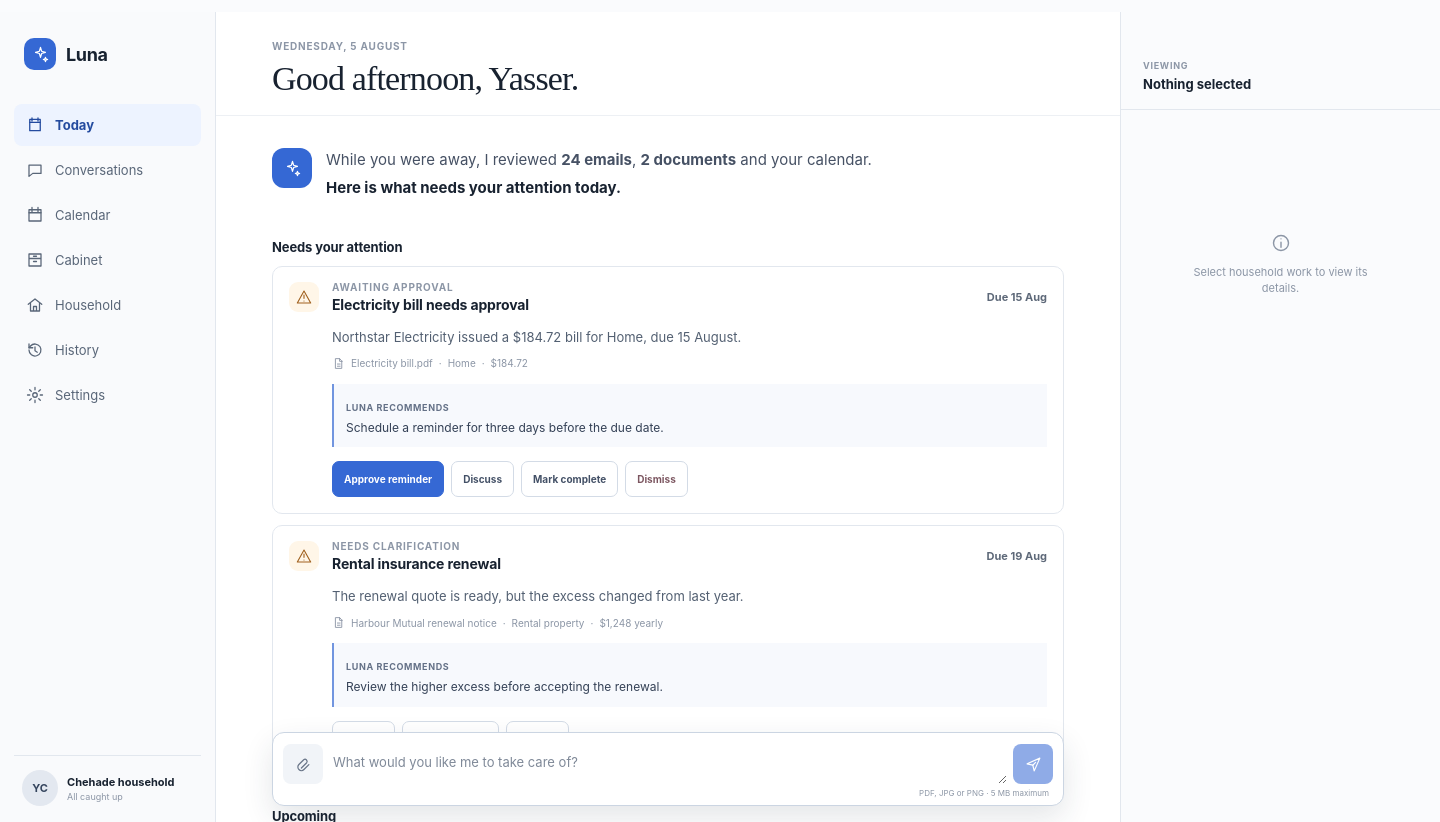
Scenario: production Today route › corrects one visible fact while preserving the rest
The width and height of the screenshot is (1440, 822).
Click the button with aria-label "Open Rental insurance renewal". click: coordinates (396, 546)
box: [273,526,1063,586]
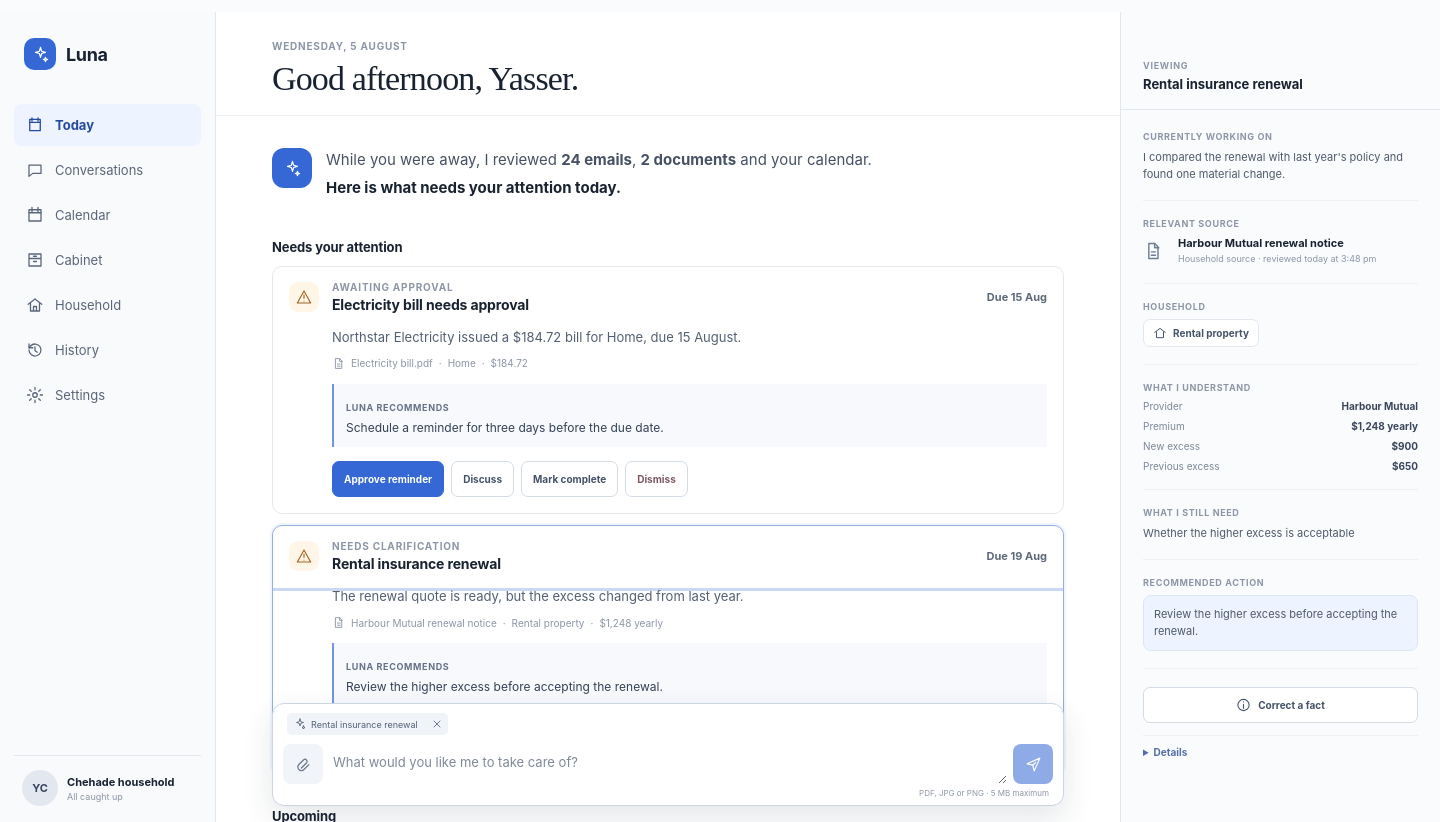
Click the button "Correct a fact". click: coordinates (1280, 705)
box: [1143,687,1418,723]
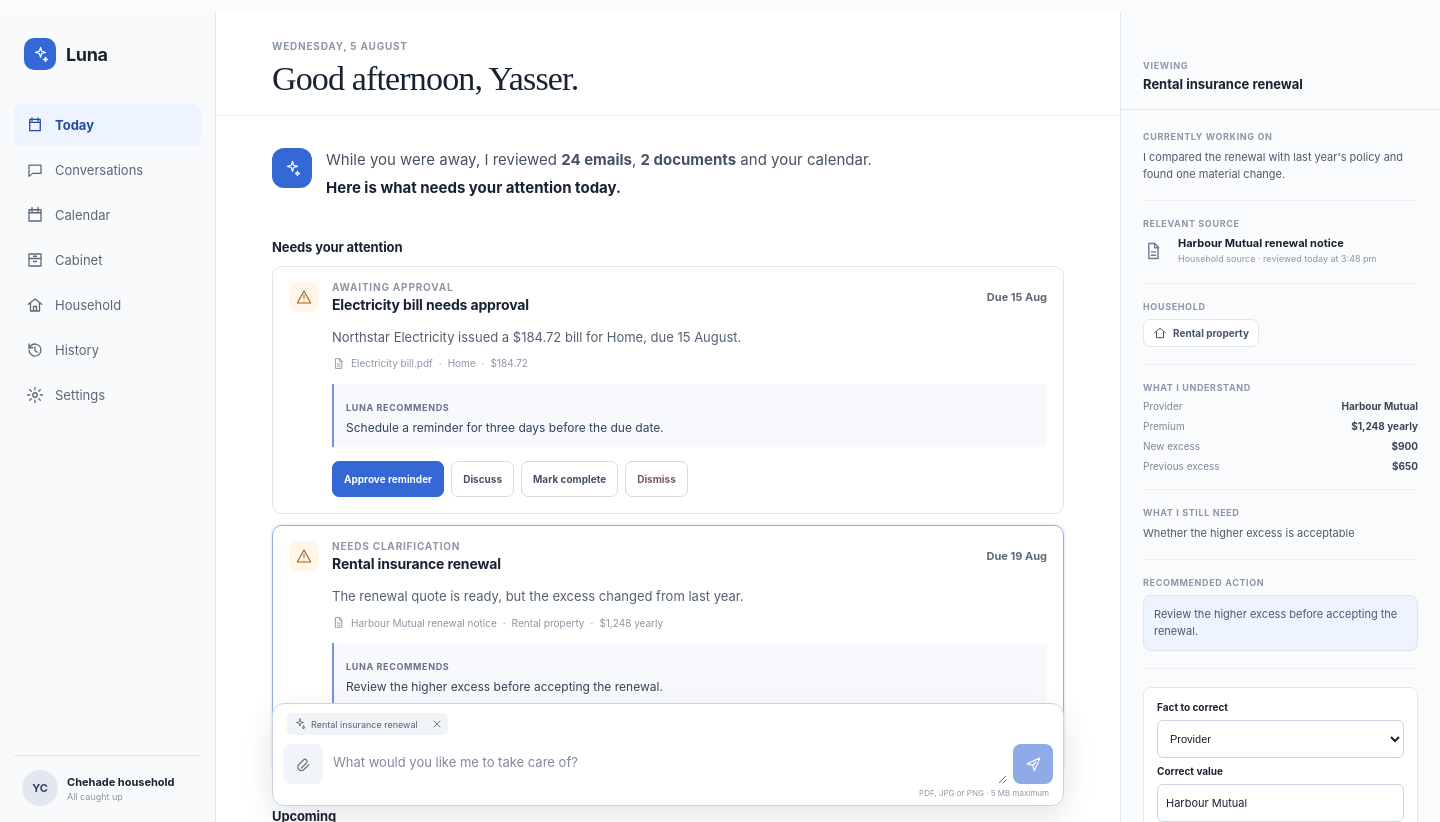
Select "New excess" in the dropdown labelled "Fact to correct". click: coordinates (1280, 739)
box: [1157,720,1404,758]
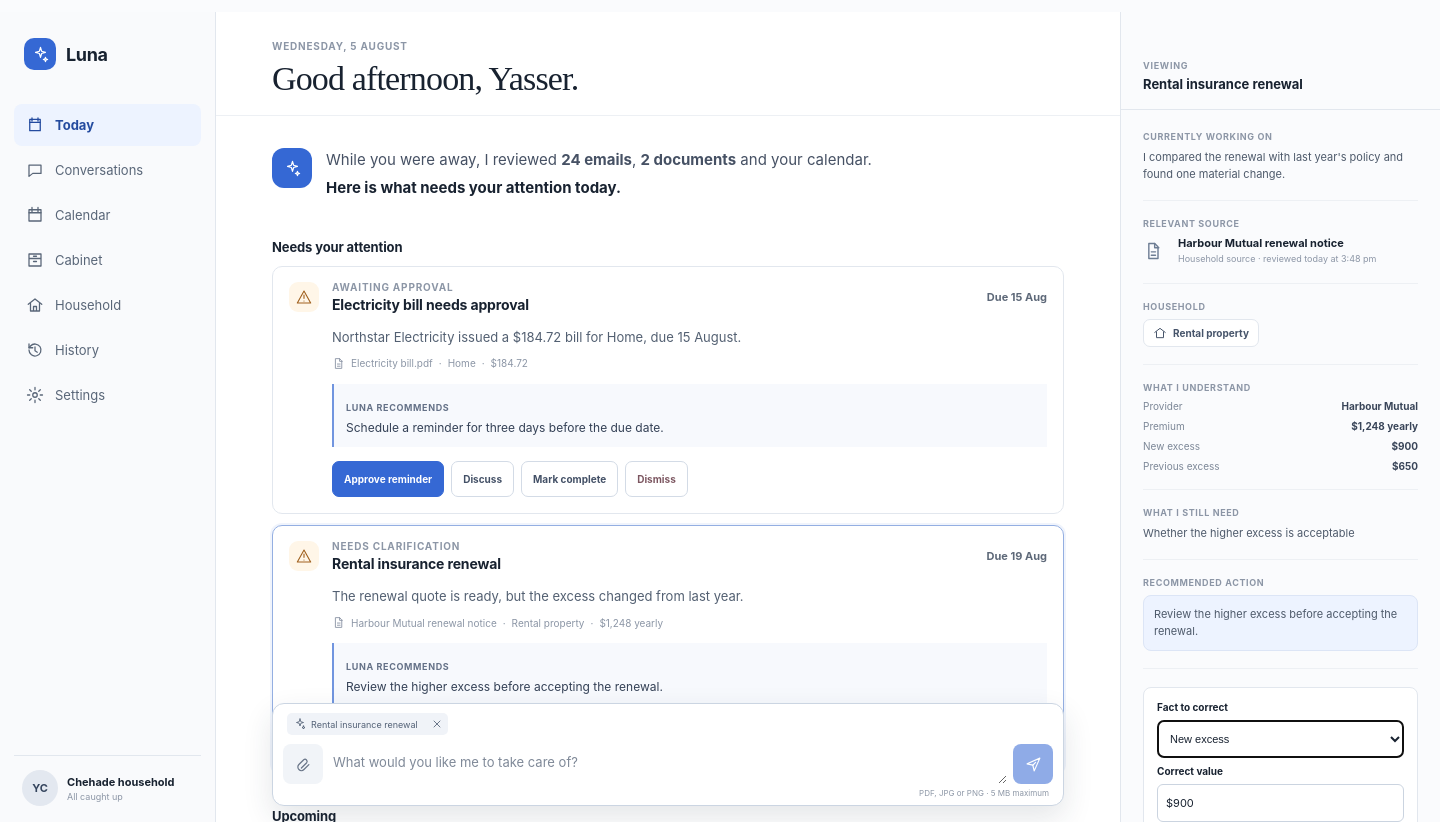
Replace the text in the field labelled "Correct value" with "$750". click: coordinates (1280, 803)
box: [1157,784,1404,821]
(page scrolled)
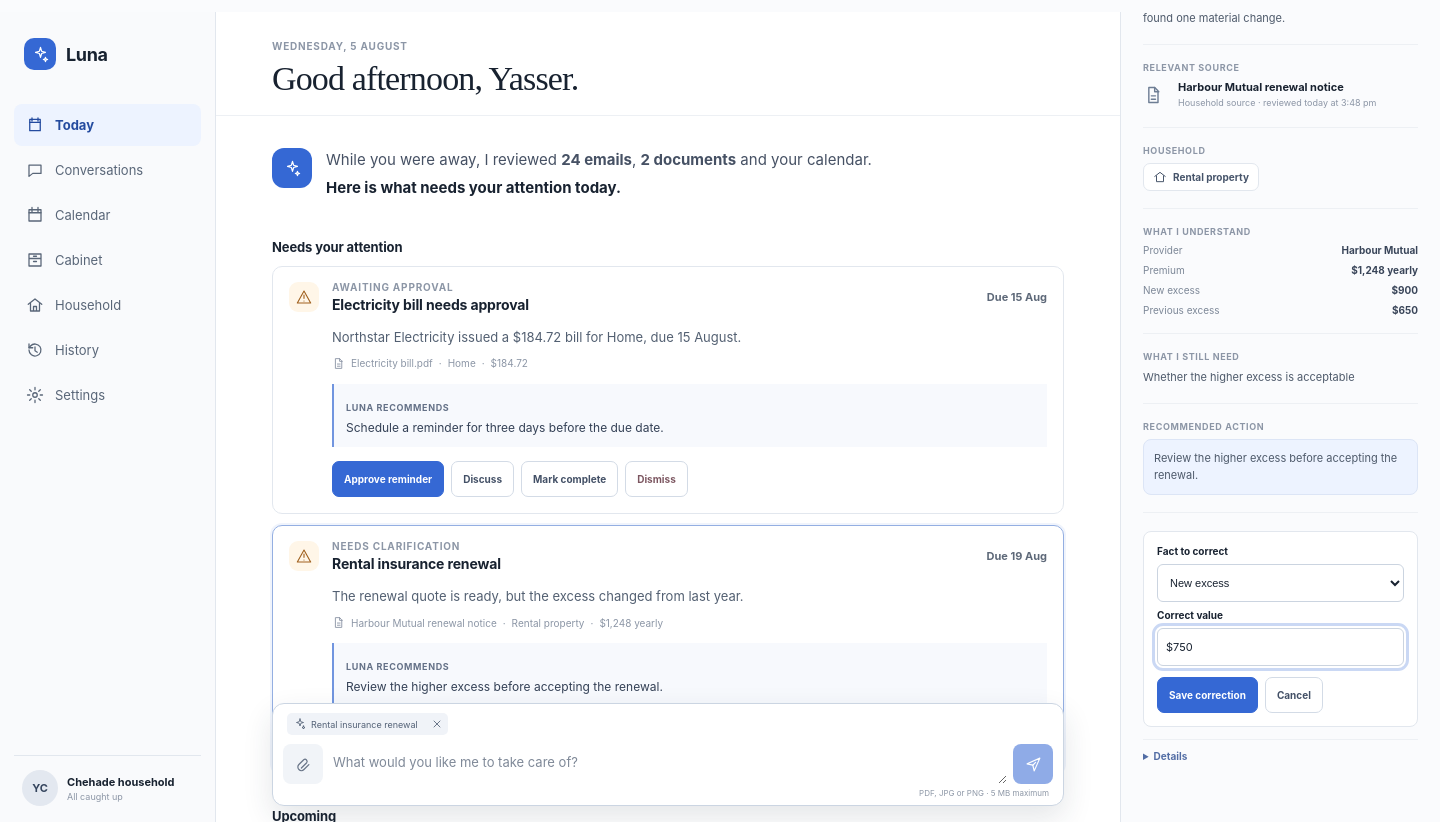
Click the button "Save correction". click: coordinates (1207, 695)
box: [1157,677,1258,713]
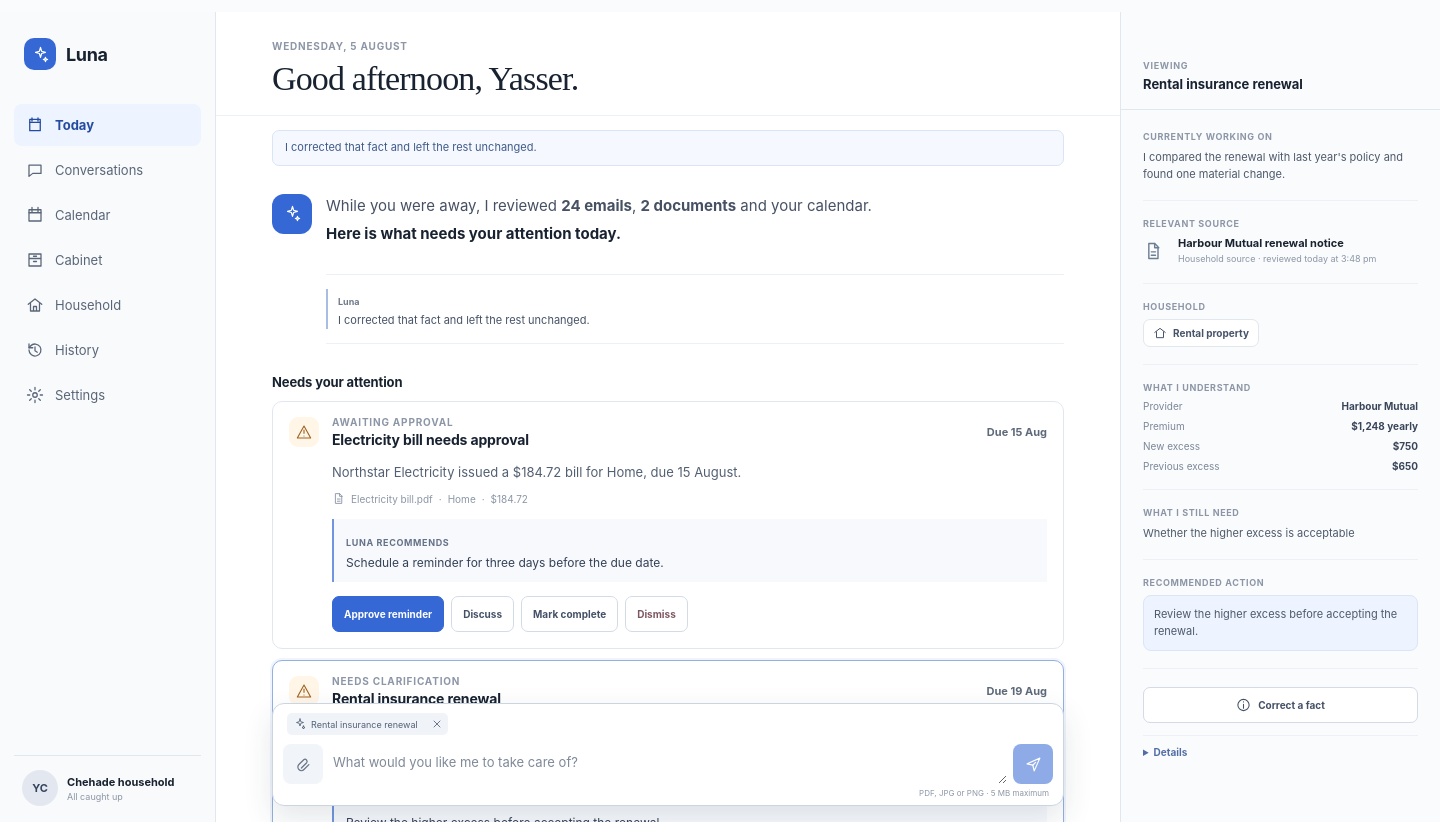
Result: the text "$750" is shown at [1393,440,1418,452]
